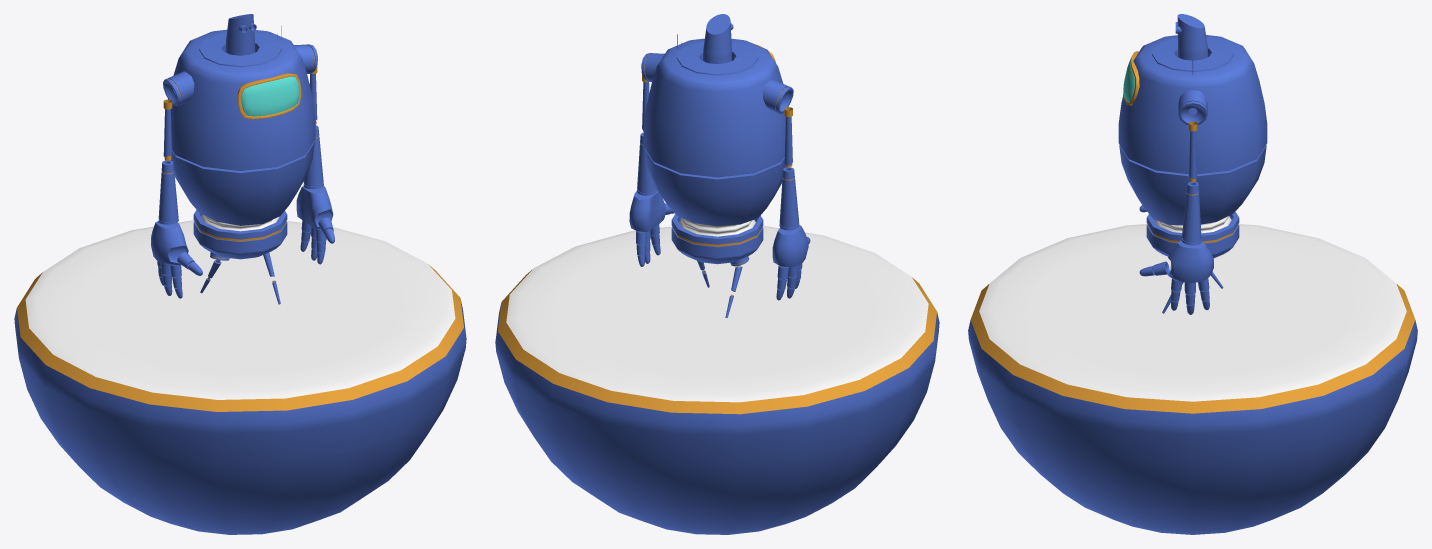
Rendered from Blue Robot Walk Mr Krabs FBX.fbx.
3 renders of one model, left to right at view 1: azimuth 30°, elevation 25°; view 2: azimuth 150°, elevation 25°; view 3: azimuth 270°, elevation 25°, orthographic.
Visible parts, largest first — view 1: Ground, Torso_Geo, Hip_Geo, R_Hand_Geo, L_Hand_Geo, Head_Geo_Grp, R_Lower_Arm_Geo, L_Lower_Arm_Geo; view 2: Ground, Torso_Geo, Hip_Geo, Head_Geo_Grp, R_Hand_Geo, L_Hand_Geo, R_Lower_Arm_Geo, Spine_Geo, L_Lower_Arm_Geo; view 3: Ground, Torso_Geo, Hip_Geo, L_Hand_Geo, Head_Geo_Grp, L_Lower_Arm_Geo.
Boxes of the visible parts, x1,y1,x2,y2 form: Ground: (14, 220, 466, 534); Torso_Geo: (163, 25, 317, 225); Hip_Geo: (193, 210, 287, 260); R_Hand_Geo: (151, 221, 188, 264); L_Hand_Geo: (296, 186, 333, 229); Head_Geo_Grp: (225, 14, 256, 55); R_Lower_Arm_Geo: (158, 160, 178, 224); L_Lower_Arm_Geo: (303, 125, 323, 189); Ground: (495, 225, 939, 534); Torso_Geo: (641, 34, 793, 225); Hip_Geo: (671, 214, 763, 266); Head_Geo_Grp: (703, 14, 733, 64); R_Hand_Geo: (772, 225, 808, 266); L_Hand_Geo: (629, 190, 666, 231); R_Lower_Arm_Geo: (779, 167, 799, 230); Spine_Geo: (679, 218, 755, 236); L_Lower_Arm_Geo: (637, 132, 656, 195); Ground: (968, 224, 1417, 534); Torso_Geo: (1118, 35, 1267, 225); Hip_Geo: (1146, 211, 1239, 258); L_Hand_Geo: (1168, 240, 1213, 282); Head_Geo_Grp: (1175, 14, 1208, 60); L_Lower_Arm_Geo: (1181, 182, 1201, 245).
Bounding box in the file's own units: 19.76 × 24.14 × 19.76.
